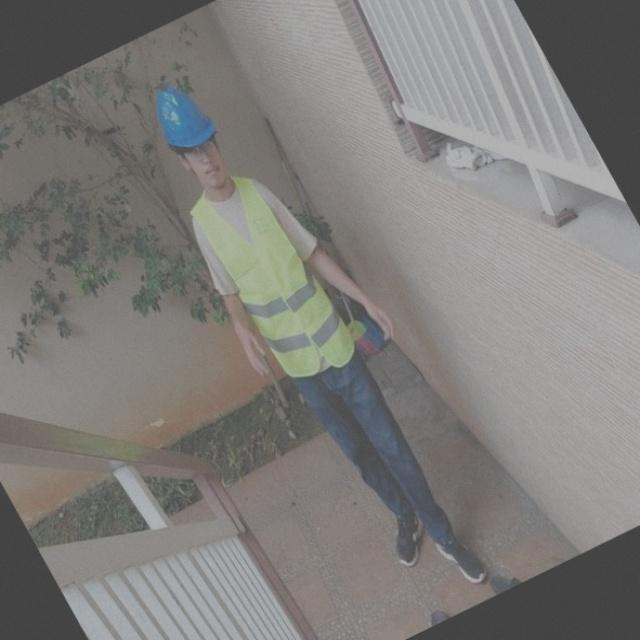helmet: (140, 74, 240, 152)
safety_vest: (172, 182, 372, 382)
